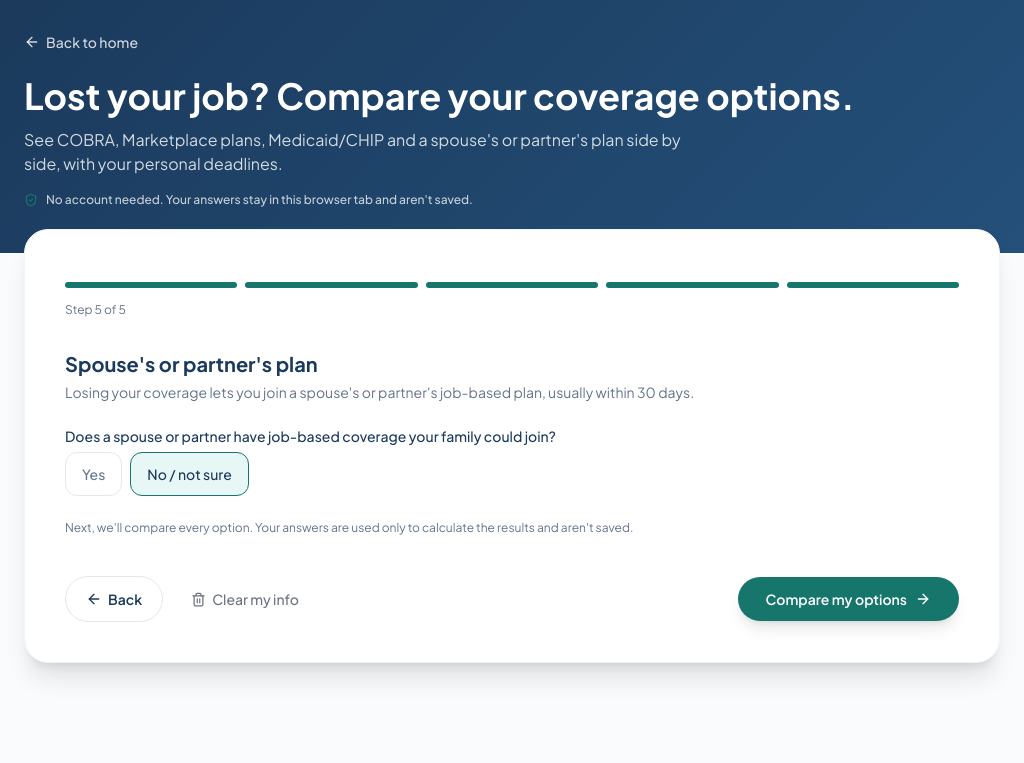
Test case: TransitionFlow › submits on the last step and shows results without storing them
The width and height of the screenshot is (1024, 763).
Click the button "Compare my options".
click(848, 599)  # box [738,577,959,621]
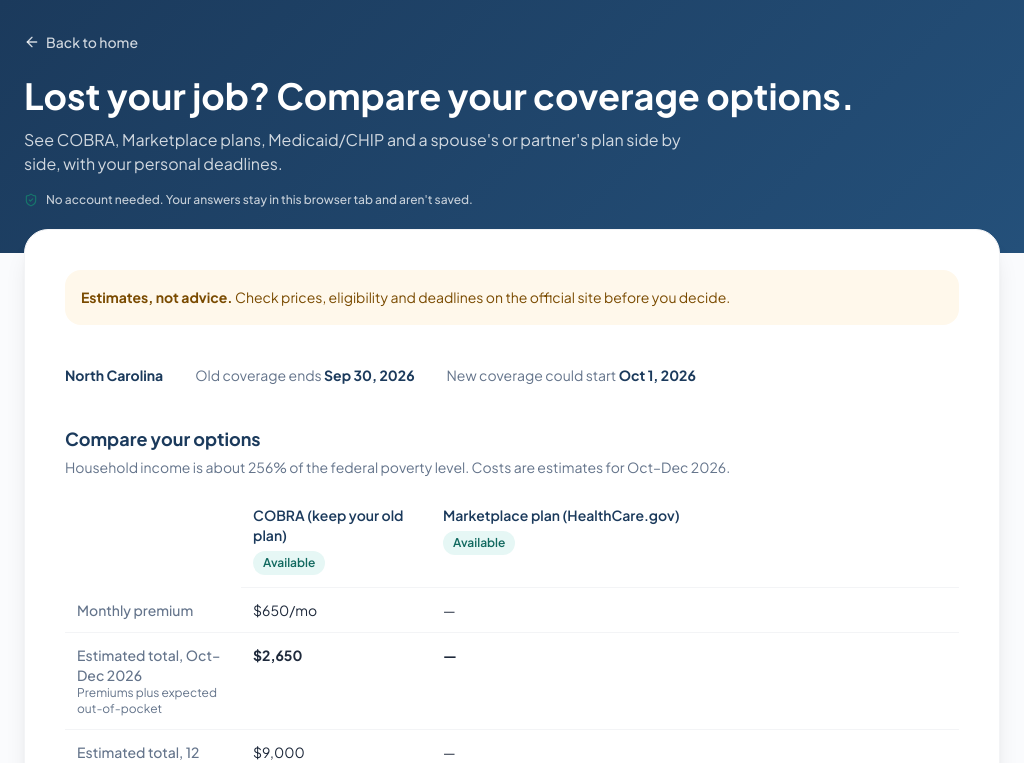
Expected: the heading "Compare your options" is shown, [65,427,261,450]
